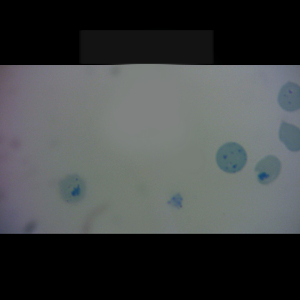aggregate reticulocyte: (215, 141, 249, 174)
erythrocyte: (56, 172, 89, 206), (252, 153, 283, 186)
